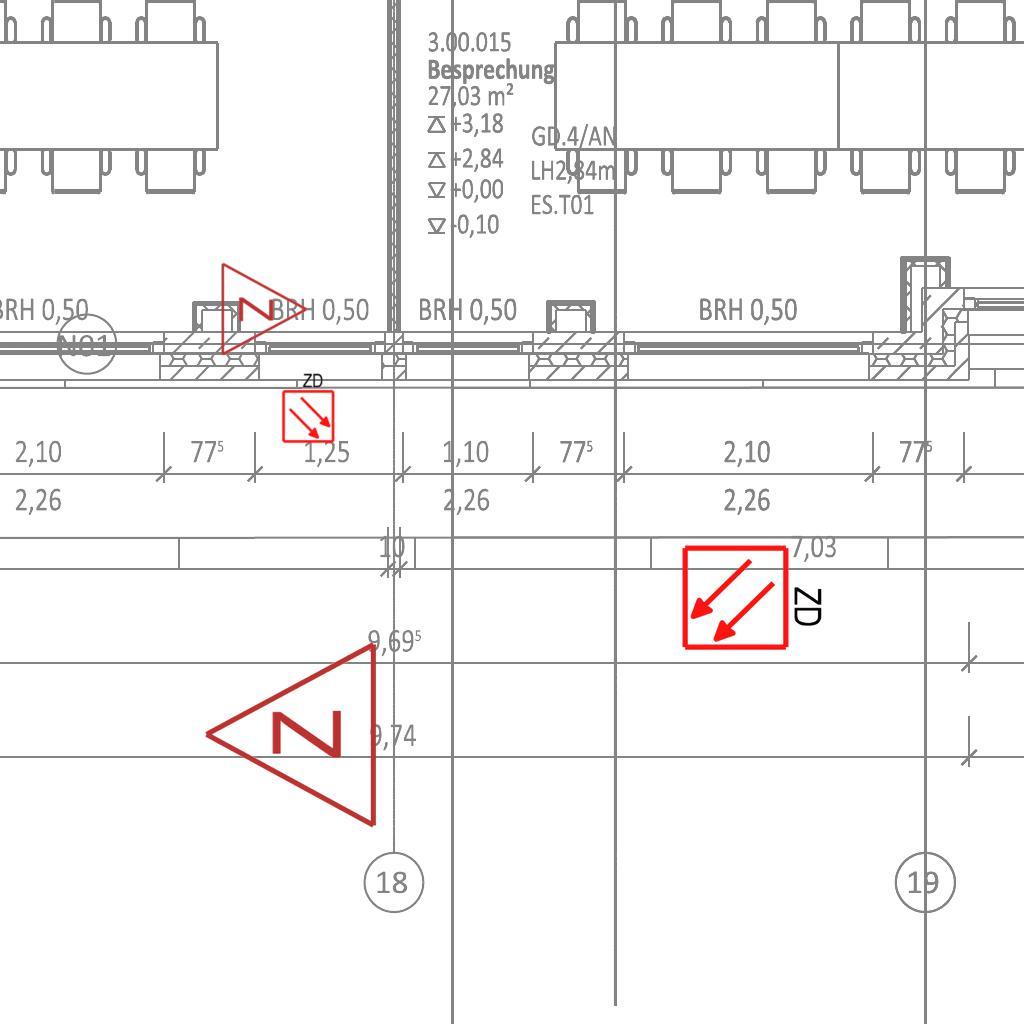ZD_Melder_in_Zwischendecke_mit_Revisionsoeffnung_mind_40_x_40_cm: (680, 539, 829, 653), (279, 370, 336, 444)
Zimmersignalleuchte: (191, 639, 391, 835), (214, 259, 314, 357)
